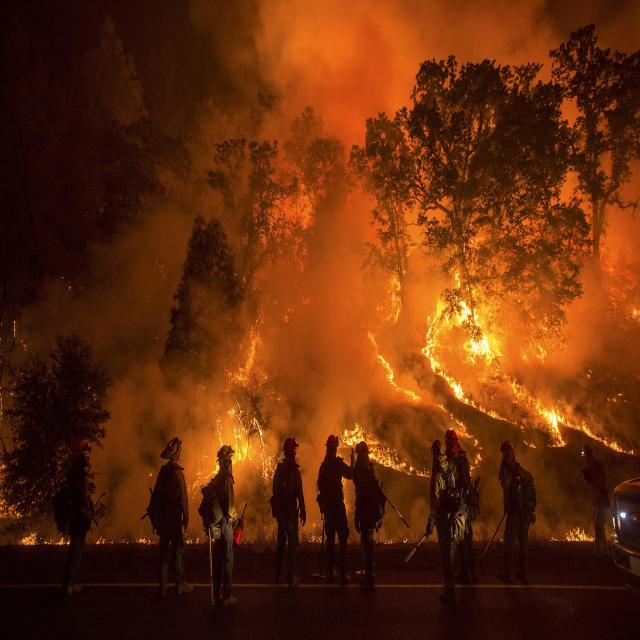Fire: (0, 262, 640, 545)
Smoke: (57, 0, 608, 415)
